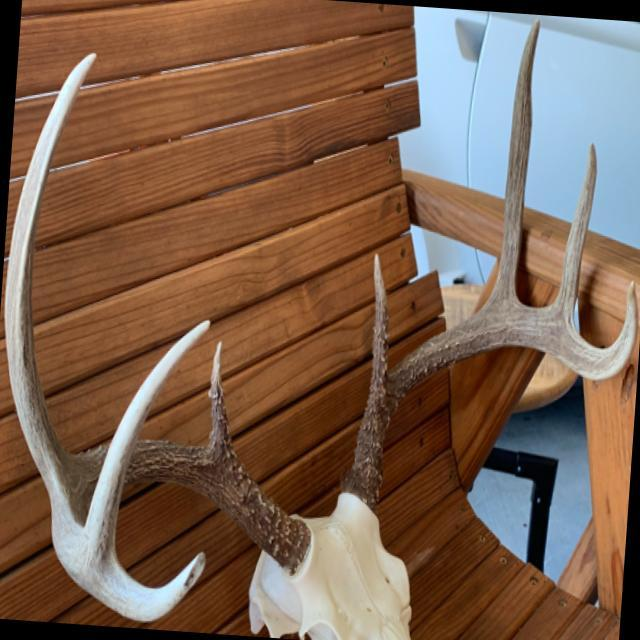L-F: (340, 280, 638, 514)
L-G1: (369, 251, 388, 390)
L-G2: (490, 18, 540, 303)
L-G3: (553, 140, 597, 319)
R-G1: (207, 339, 234, 453)
R-G2: (4, 52, 97, 501)
R-G3: (84, 318, 212, 555)
